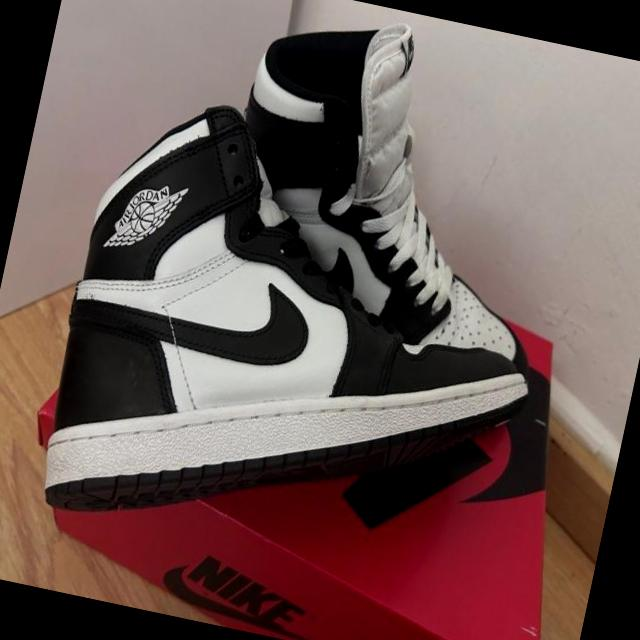nike_original_jordan: (30, 83, 576, 606), (185, 0, 612, 459)
